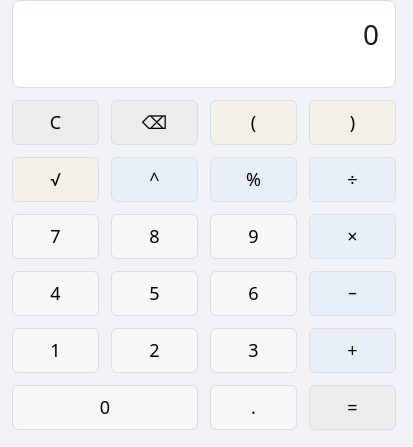
it: Calculator › clears the expression when clicking clear
Click the button "3". click: (254, 350)
box: [210, 328, 297, 373]
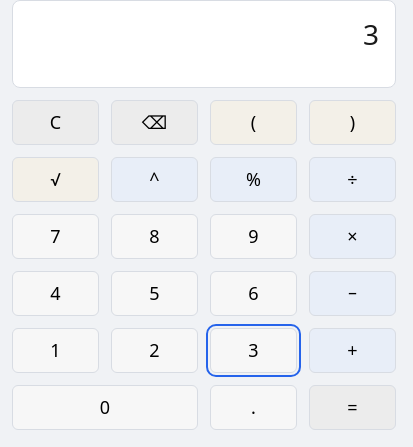
Click the button named "Clear expression". click: (56, 122)
box: [12, 100, 99, 145]
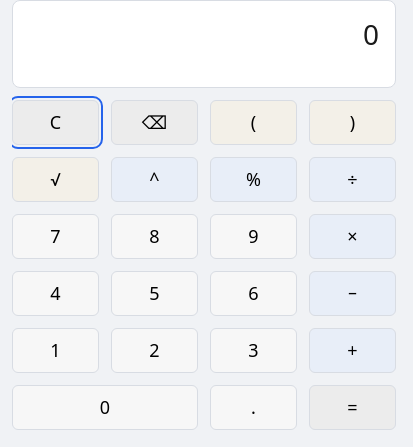
Check: the text named "Display" reads "0", box [363, 15, 379, 53]
